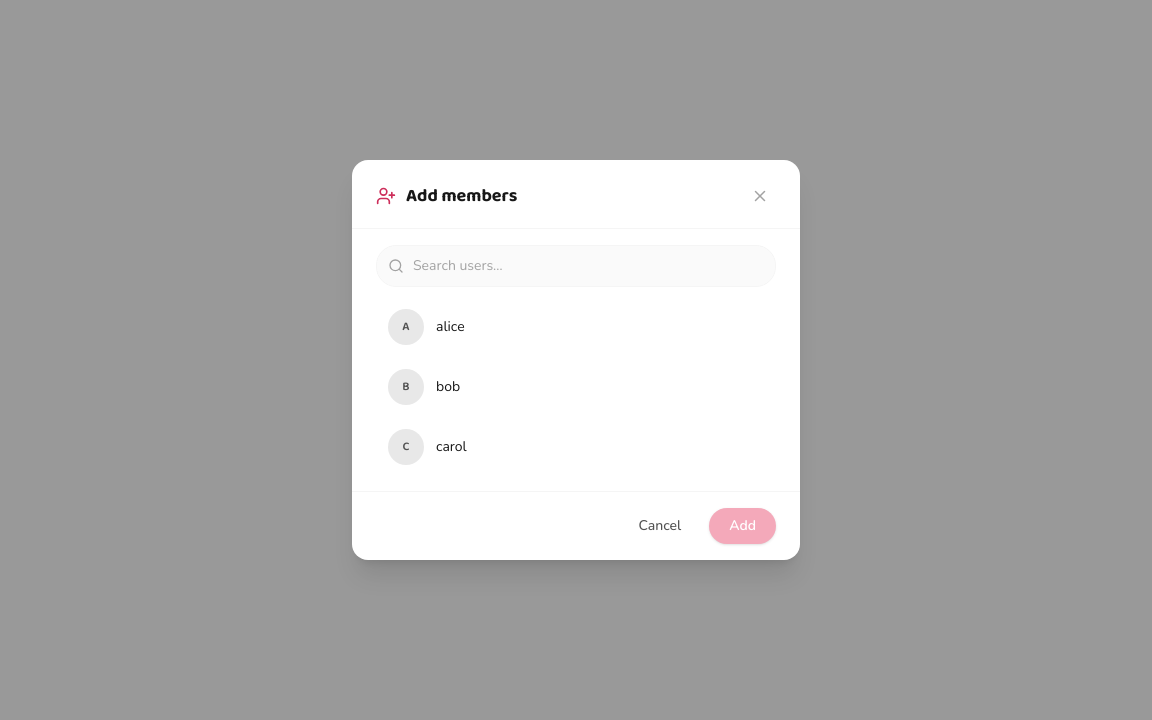
Test: AddParticipantModal › shows count in add button
Click the text "alice" at (450, 326), box [436,317,465,336]
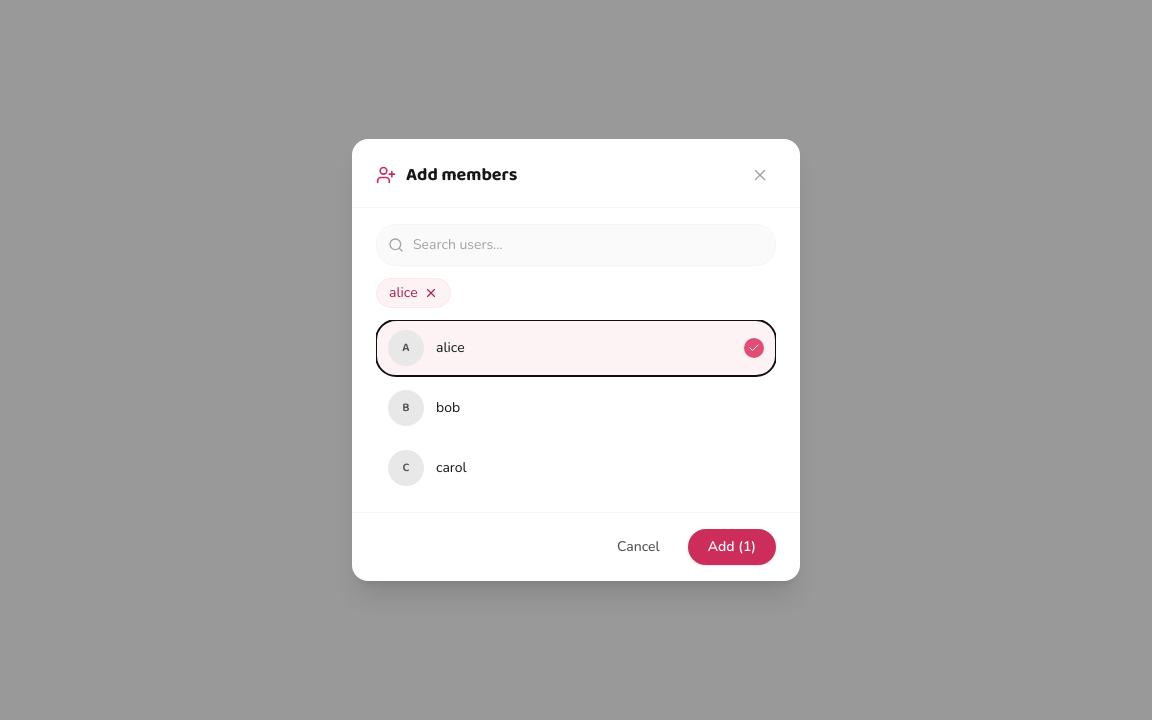
Result: the button "Add (1)" is shown at [688,529,776,565]
Click the text "bob" at (448, 408), box [436,398,460,417]
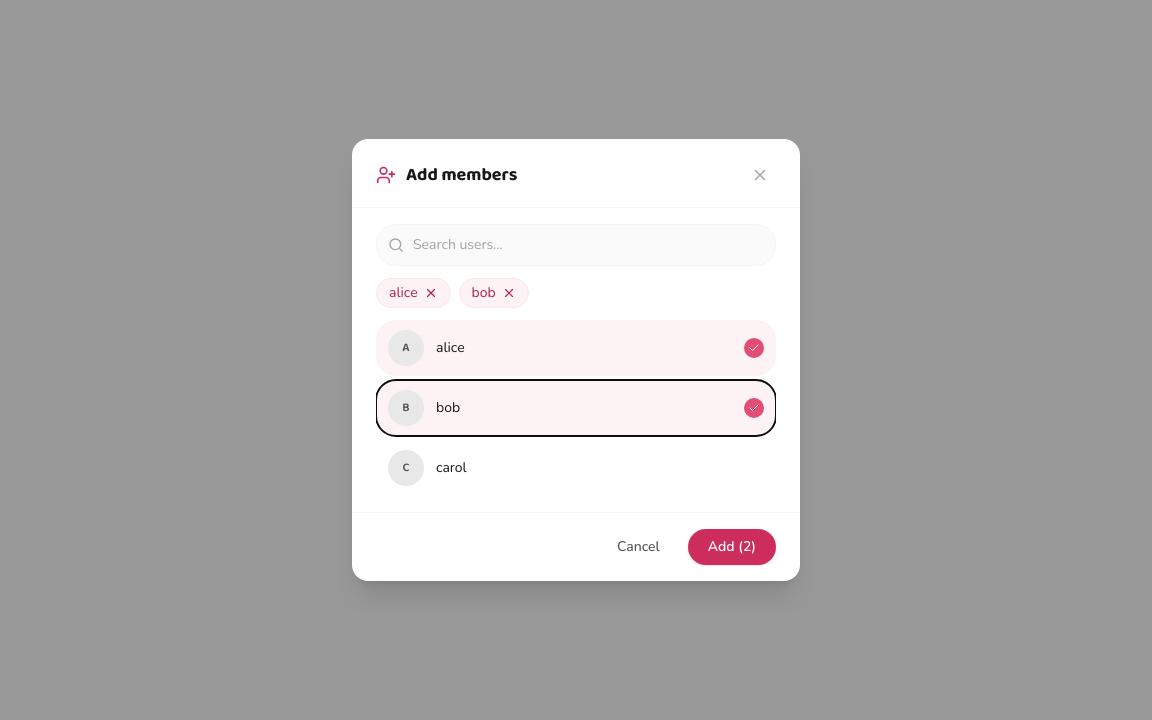
Result: the button "Add (2)" is shown at [688,529,776,565]
